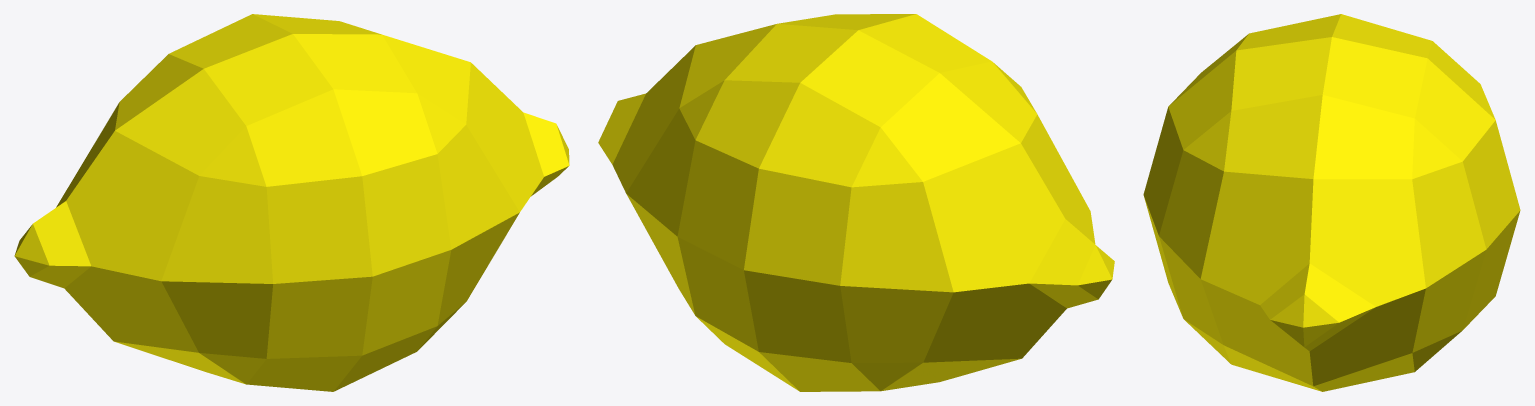
The model's file is lemom.fbx.
3 views of the same model, side by side, from view 1: azimuth 30°, elevation 25°; view 2: azimuth 150°, elevation 25°; view 3: azimuth 270°, elevation 25° (orthographic). The views are drawn at different scales.
Visible parts, largest first — view 1: Cube.016; view 2: Cube.016; view 3: Cube.016.
Part boxes in pixels (bbox=[...]): Cube.016: bbox=[14, 14, 569, 391]; Cube.016: bbox=[598, 14, 1114, 391]; Cube.016: bbox=[1143, 14, 1520, 391].
Size of the model in its own units: 148 by 89.65 by 93.85.
